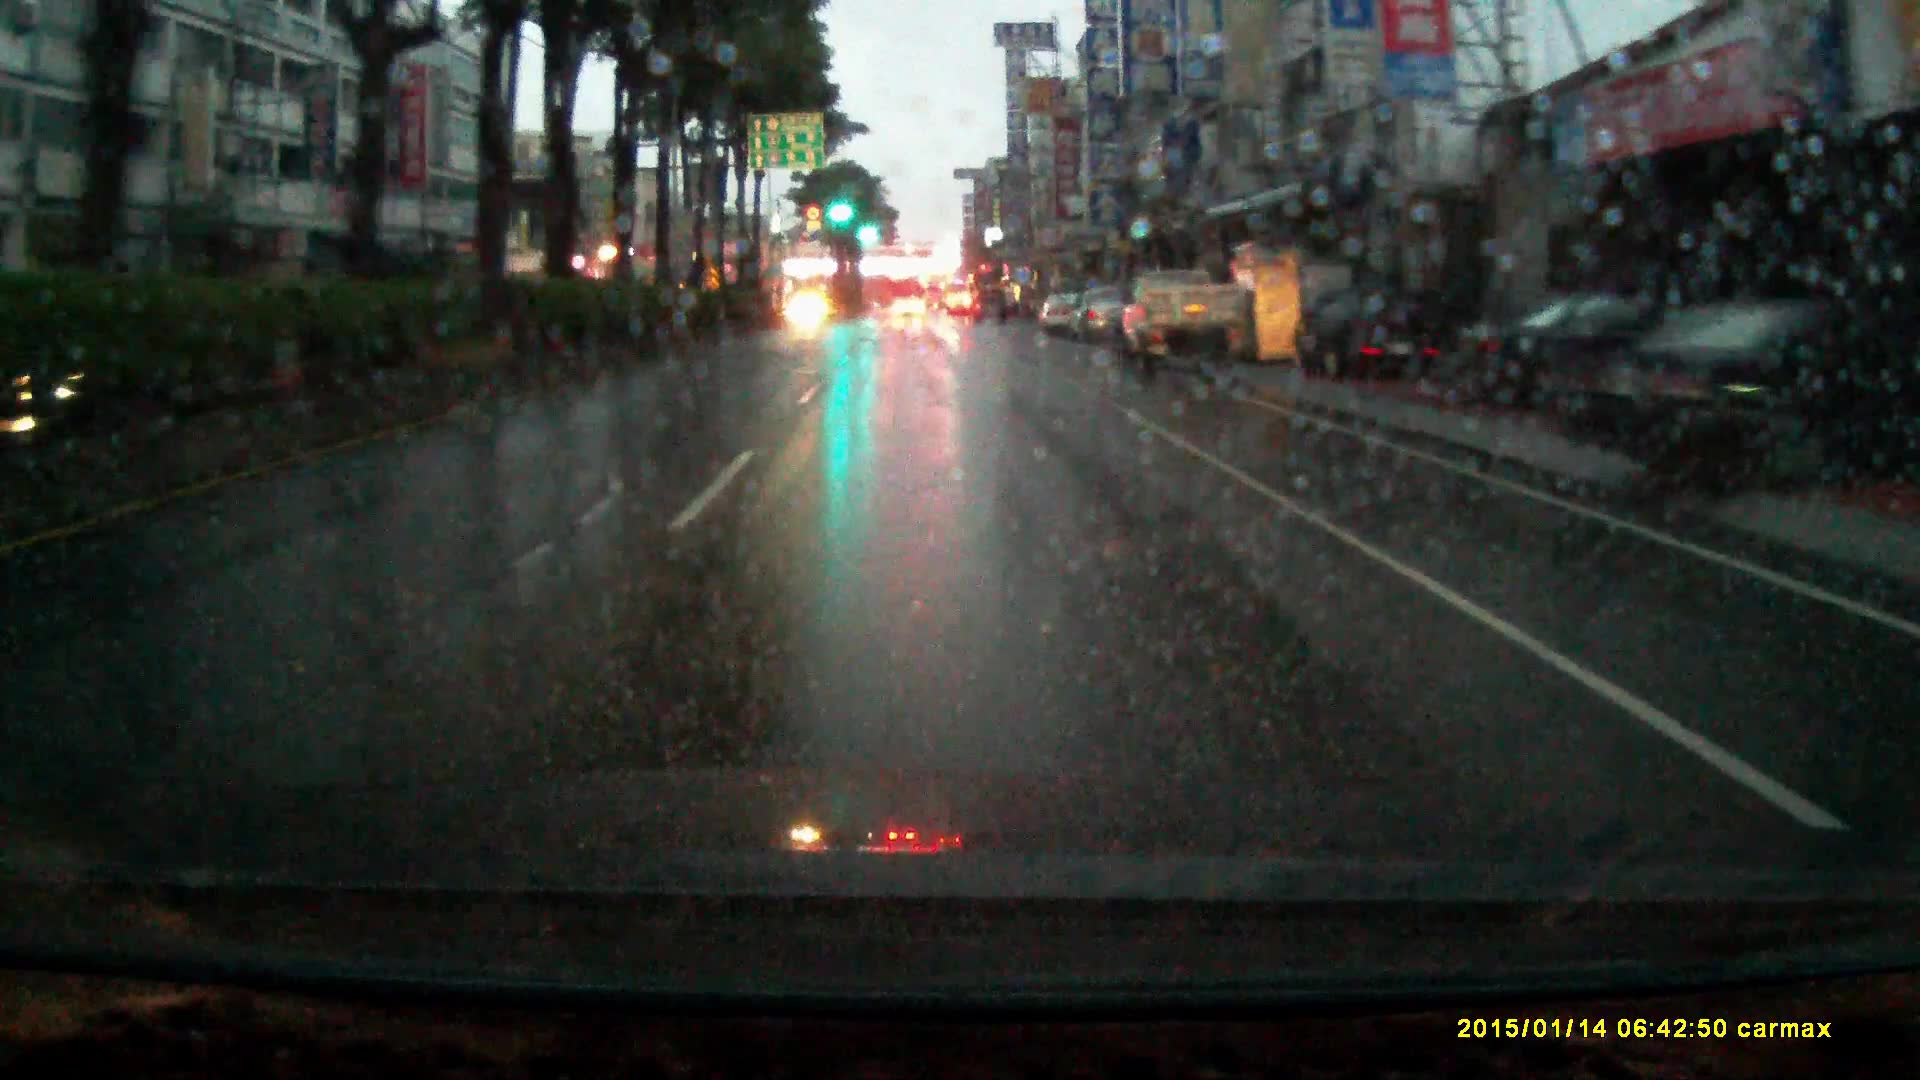vehicle: (1561, 298, 1920, 505), (1461, 298, 1783, 415), (1120, 266, 1247, 376), (1302, 287, 1445, 380), (1069, 287, 1129, 344), (1039, 291, 1083, 336), (789, 289, 831, 331), (973, 287, 1011, 324), (893, 295, 927, 320), (926, 276, 947, 313)
